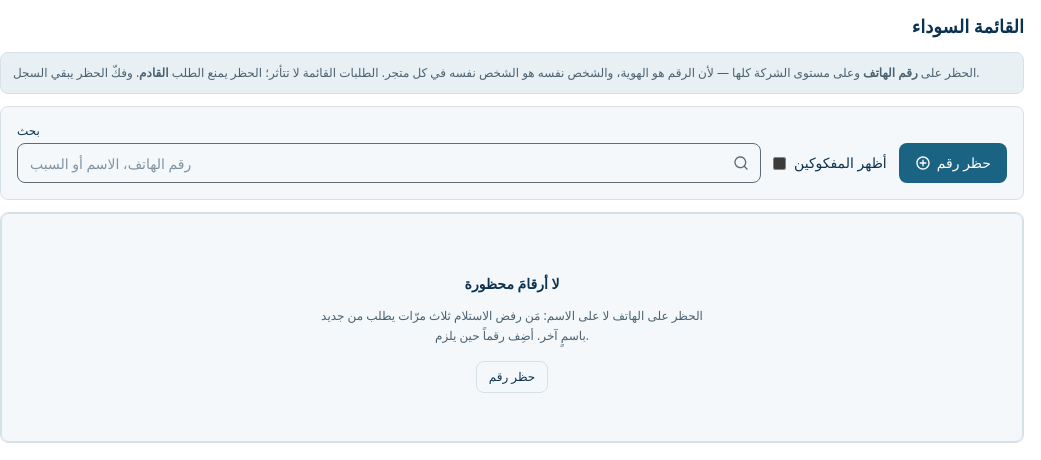
Test: pressed, it does what the header’s button does › and under a search it offers the way out of the search instead, never the first step
Expected: the text "لا أرقامَ محظورة" is shown, x1=464 y1=274 x2=559 y2=294
In the field with placeholder "رقم الهاتف، الاسم أو السبب": (389,163) x1=17 y1=143 x2=761 y2=183, type "0933"
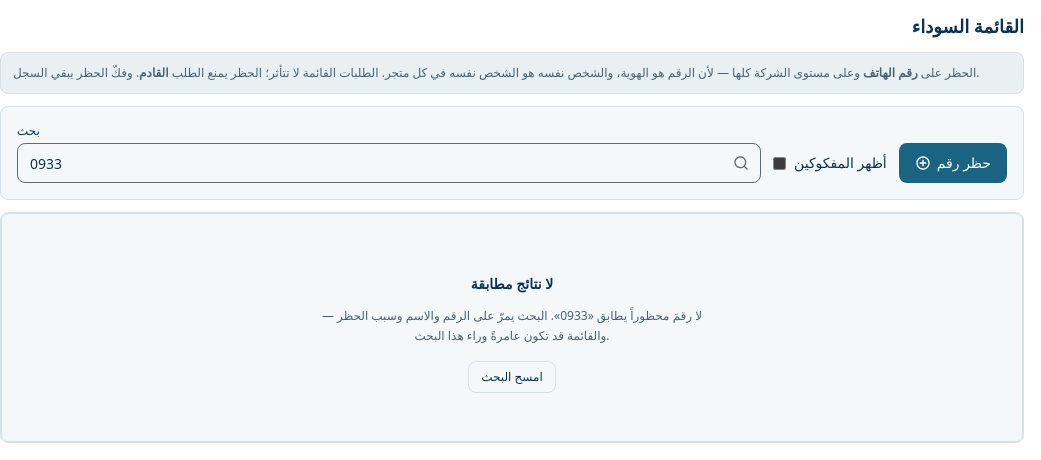
Expected: the button "امسح البحث" is shown, x1=468 y1=361 x2=556 y2=393
